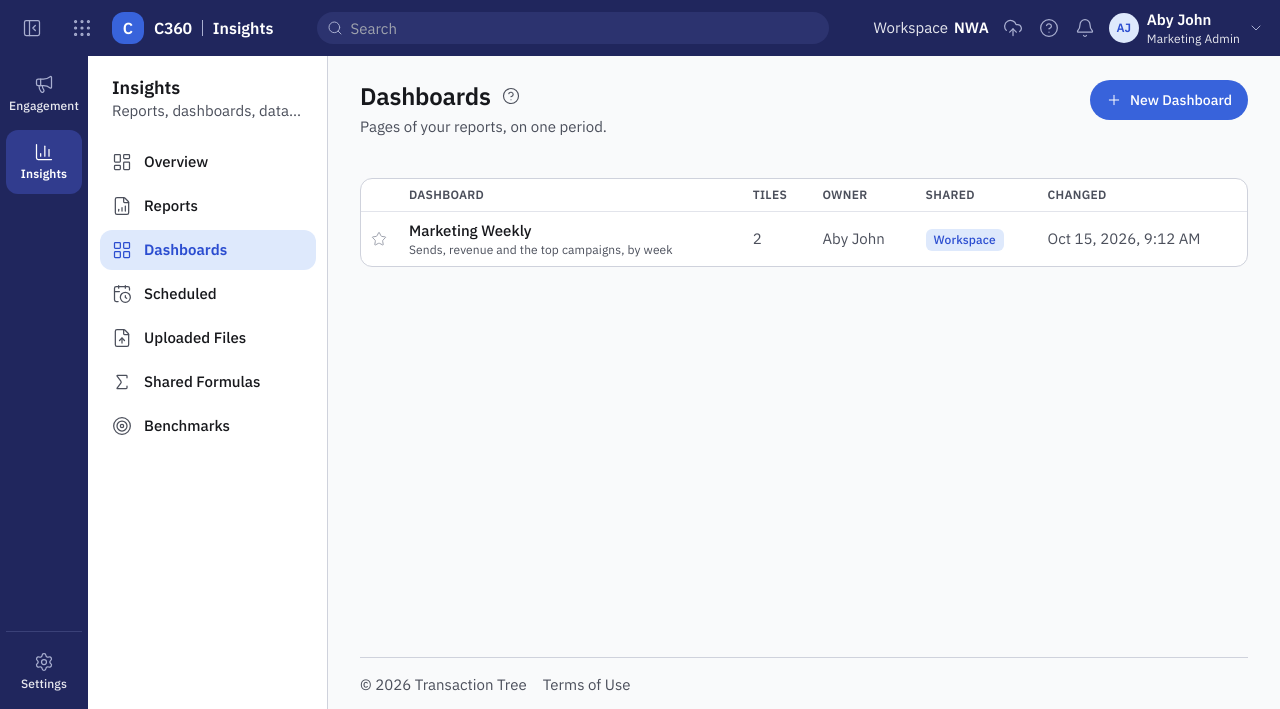
Test: the list shows the dashboards; the viewer runs the tiles on the period, a figure with its change, and the period can be switched
Expected: the text "Workspace" in the row of "Marketing Weekly" is shown, x1=934 y1=232 x2=996 y2=246
Click the link "Marketing Weekly" at (470, 230), box x1=409 y1=221 x2=532 y2=240
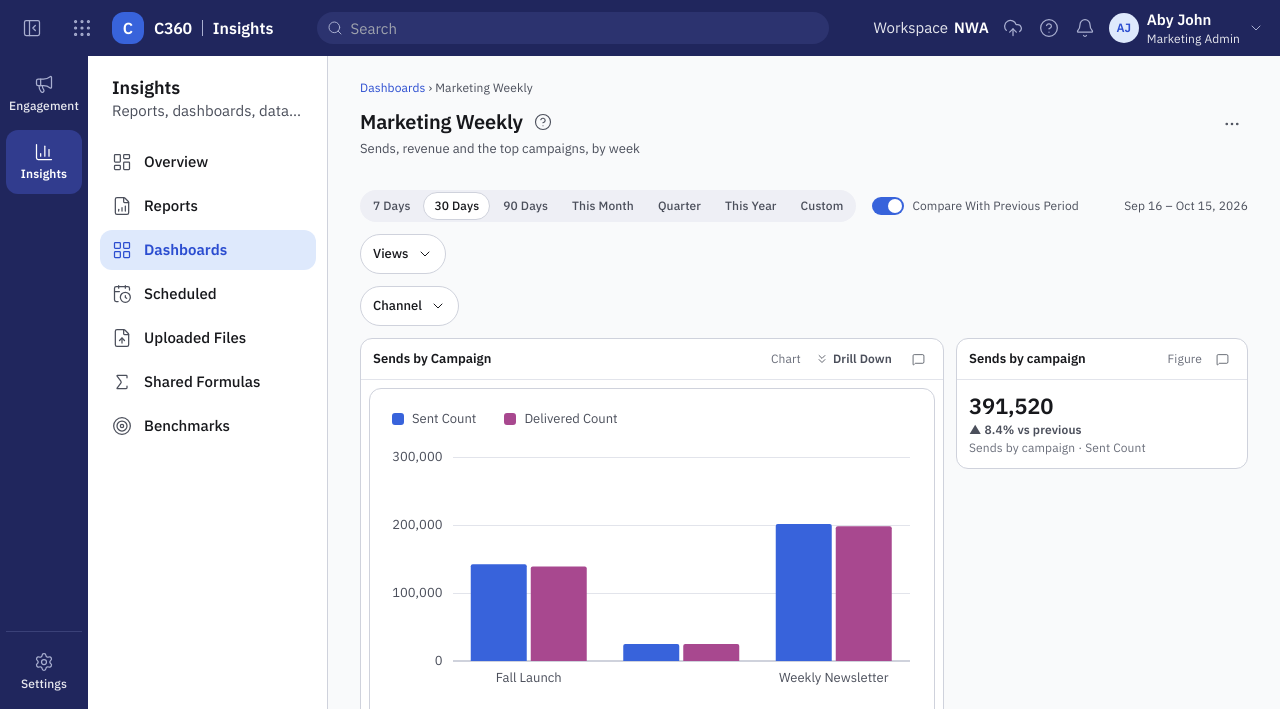
Result: the heading "Marketing Weekly" is shown at x1=360 y1=108 x2=523 y2=136
Click the button named "More actions" at (1232, 124), box x1=1216 y1=108 x2=1248 y2=140
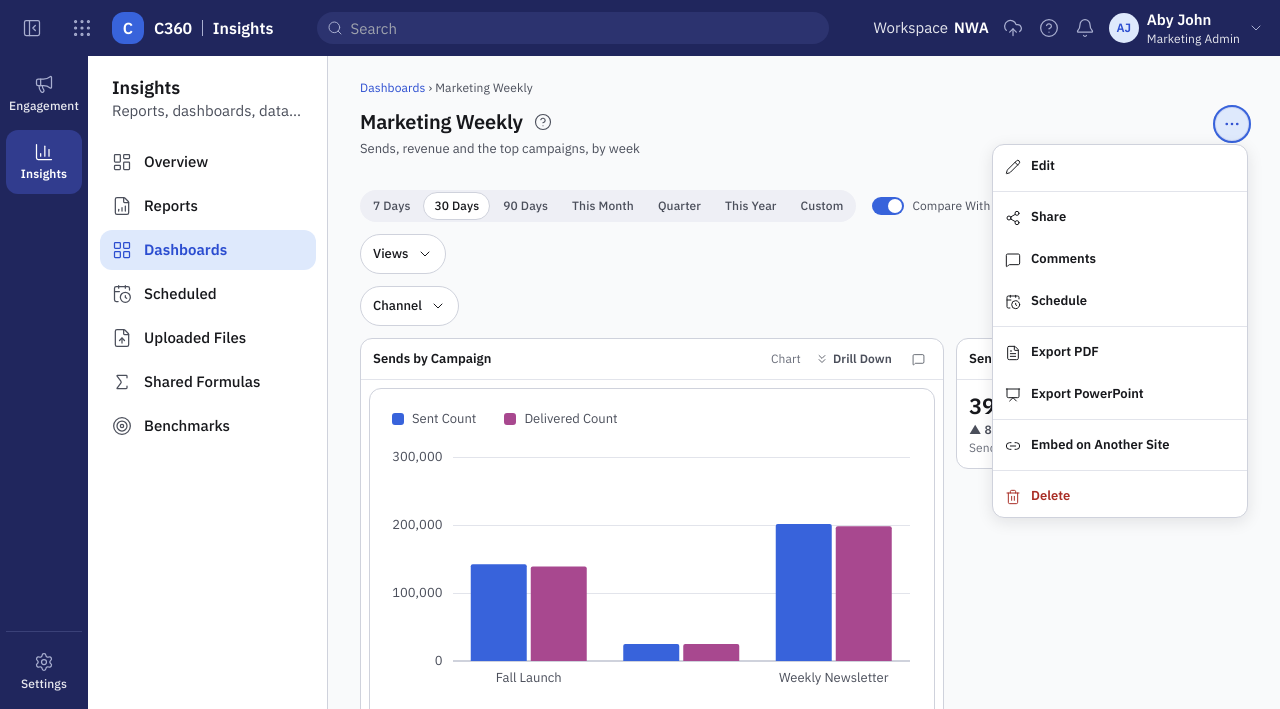
Press Escape
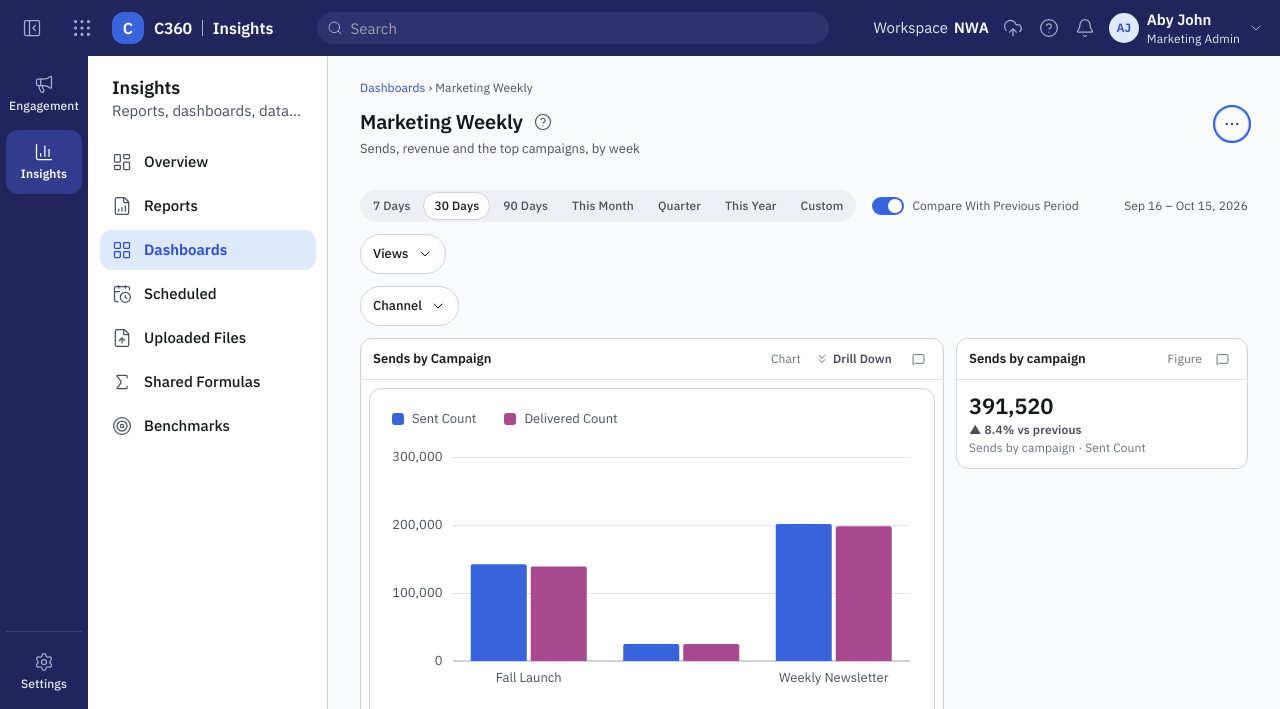
Result: the text "391,520" is shown at x1=969 y1=391 x2=1053 y2=420
Result: the text "▲ 8.4% vs previous" is shown at x1=969 y1=422 x2=1082 y2=437
Result: the element named "Sent Count by Campaign" is shown at x1=386 y1=449 x2=918 y2=689
Click the radio button labelled "7 Days" at (392, 206), box x1=362 y1=192 x2=422 y2=220
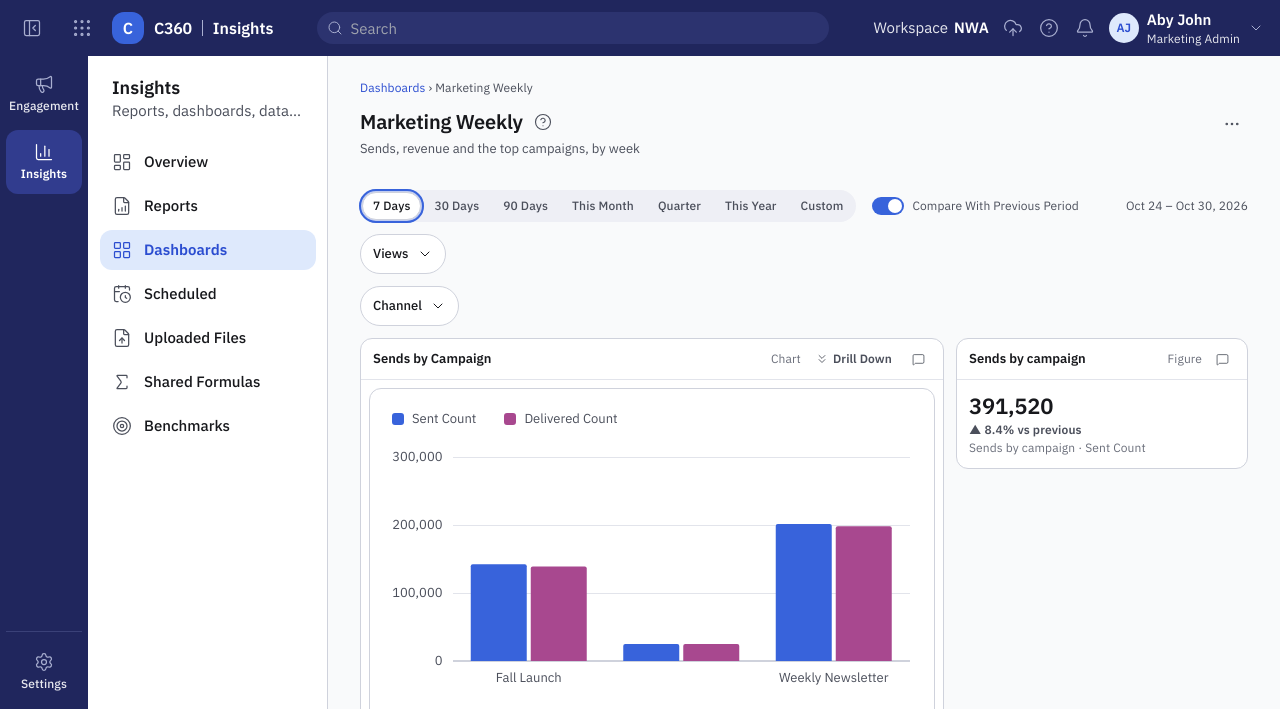
Result: the text "Sep 16 – Oct 15, 2026" is gone
